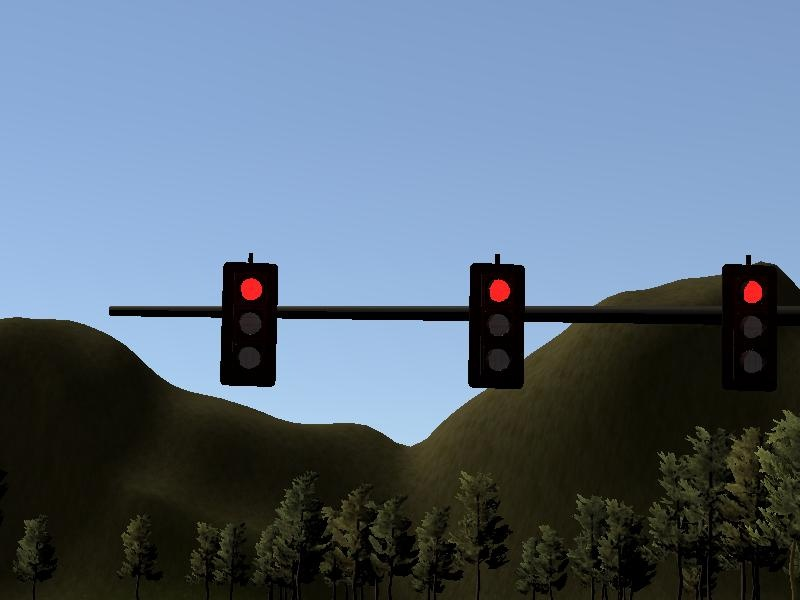traffic_light_red: (194, 250, 793, 393)
